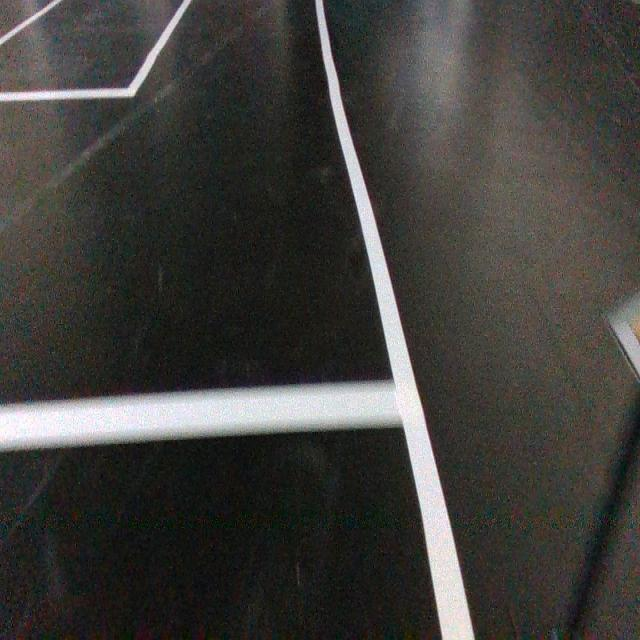priority-sign: (605, 277, 640, 383)
